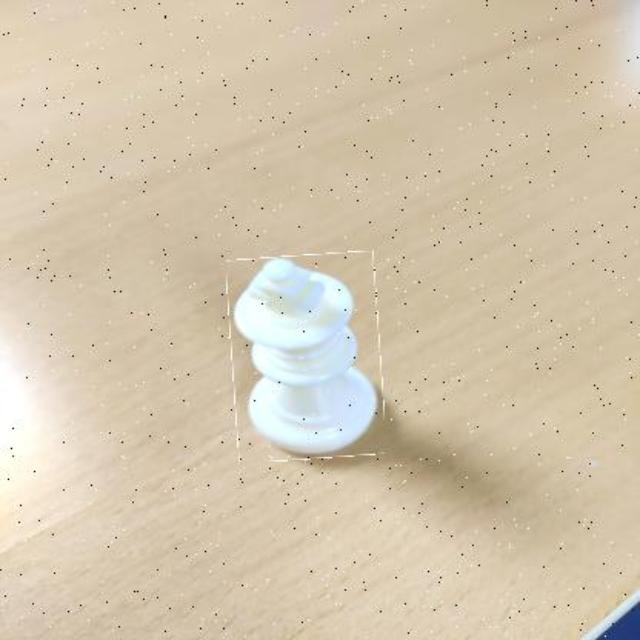white-king: (229, 253, 382, 460)
